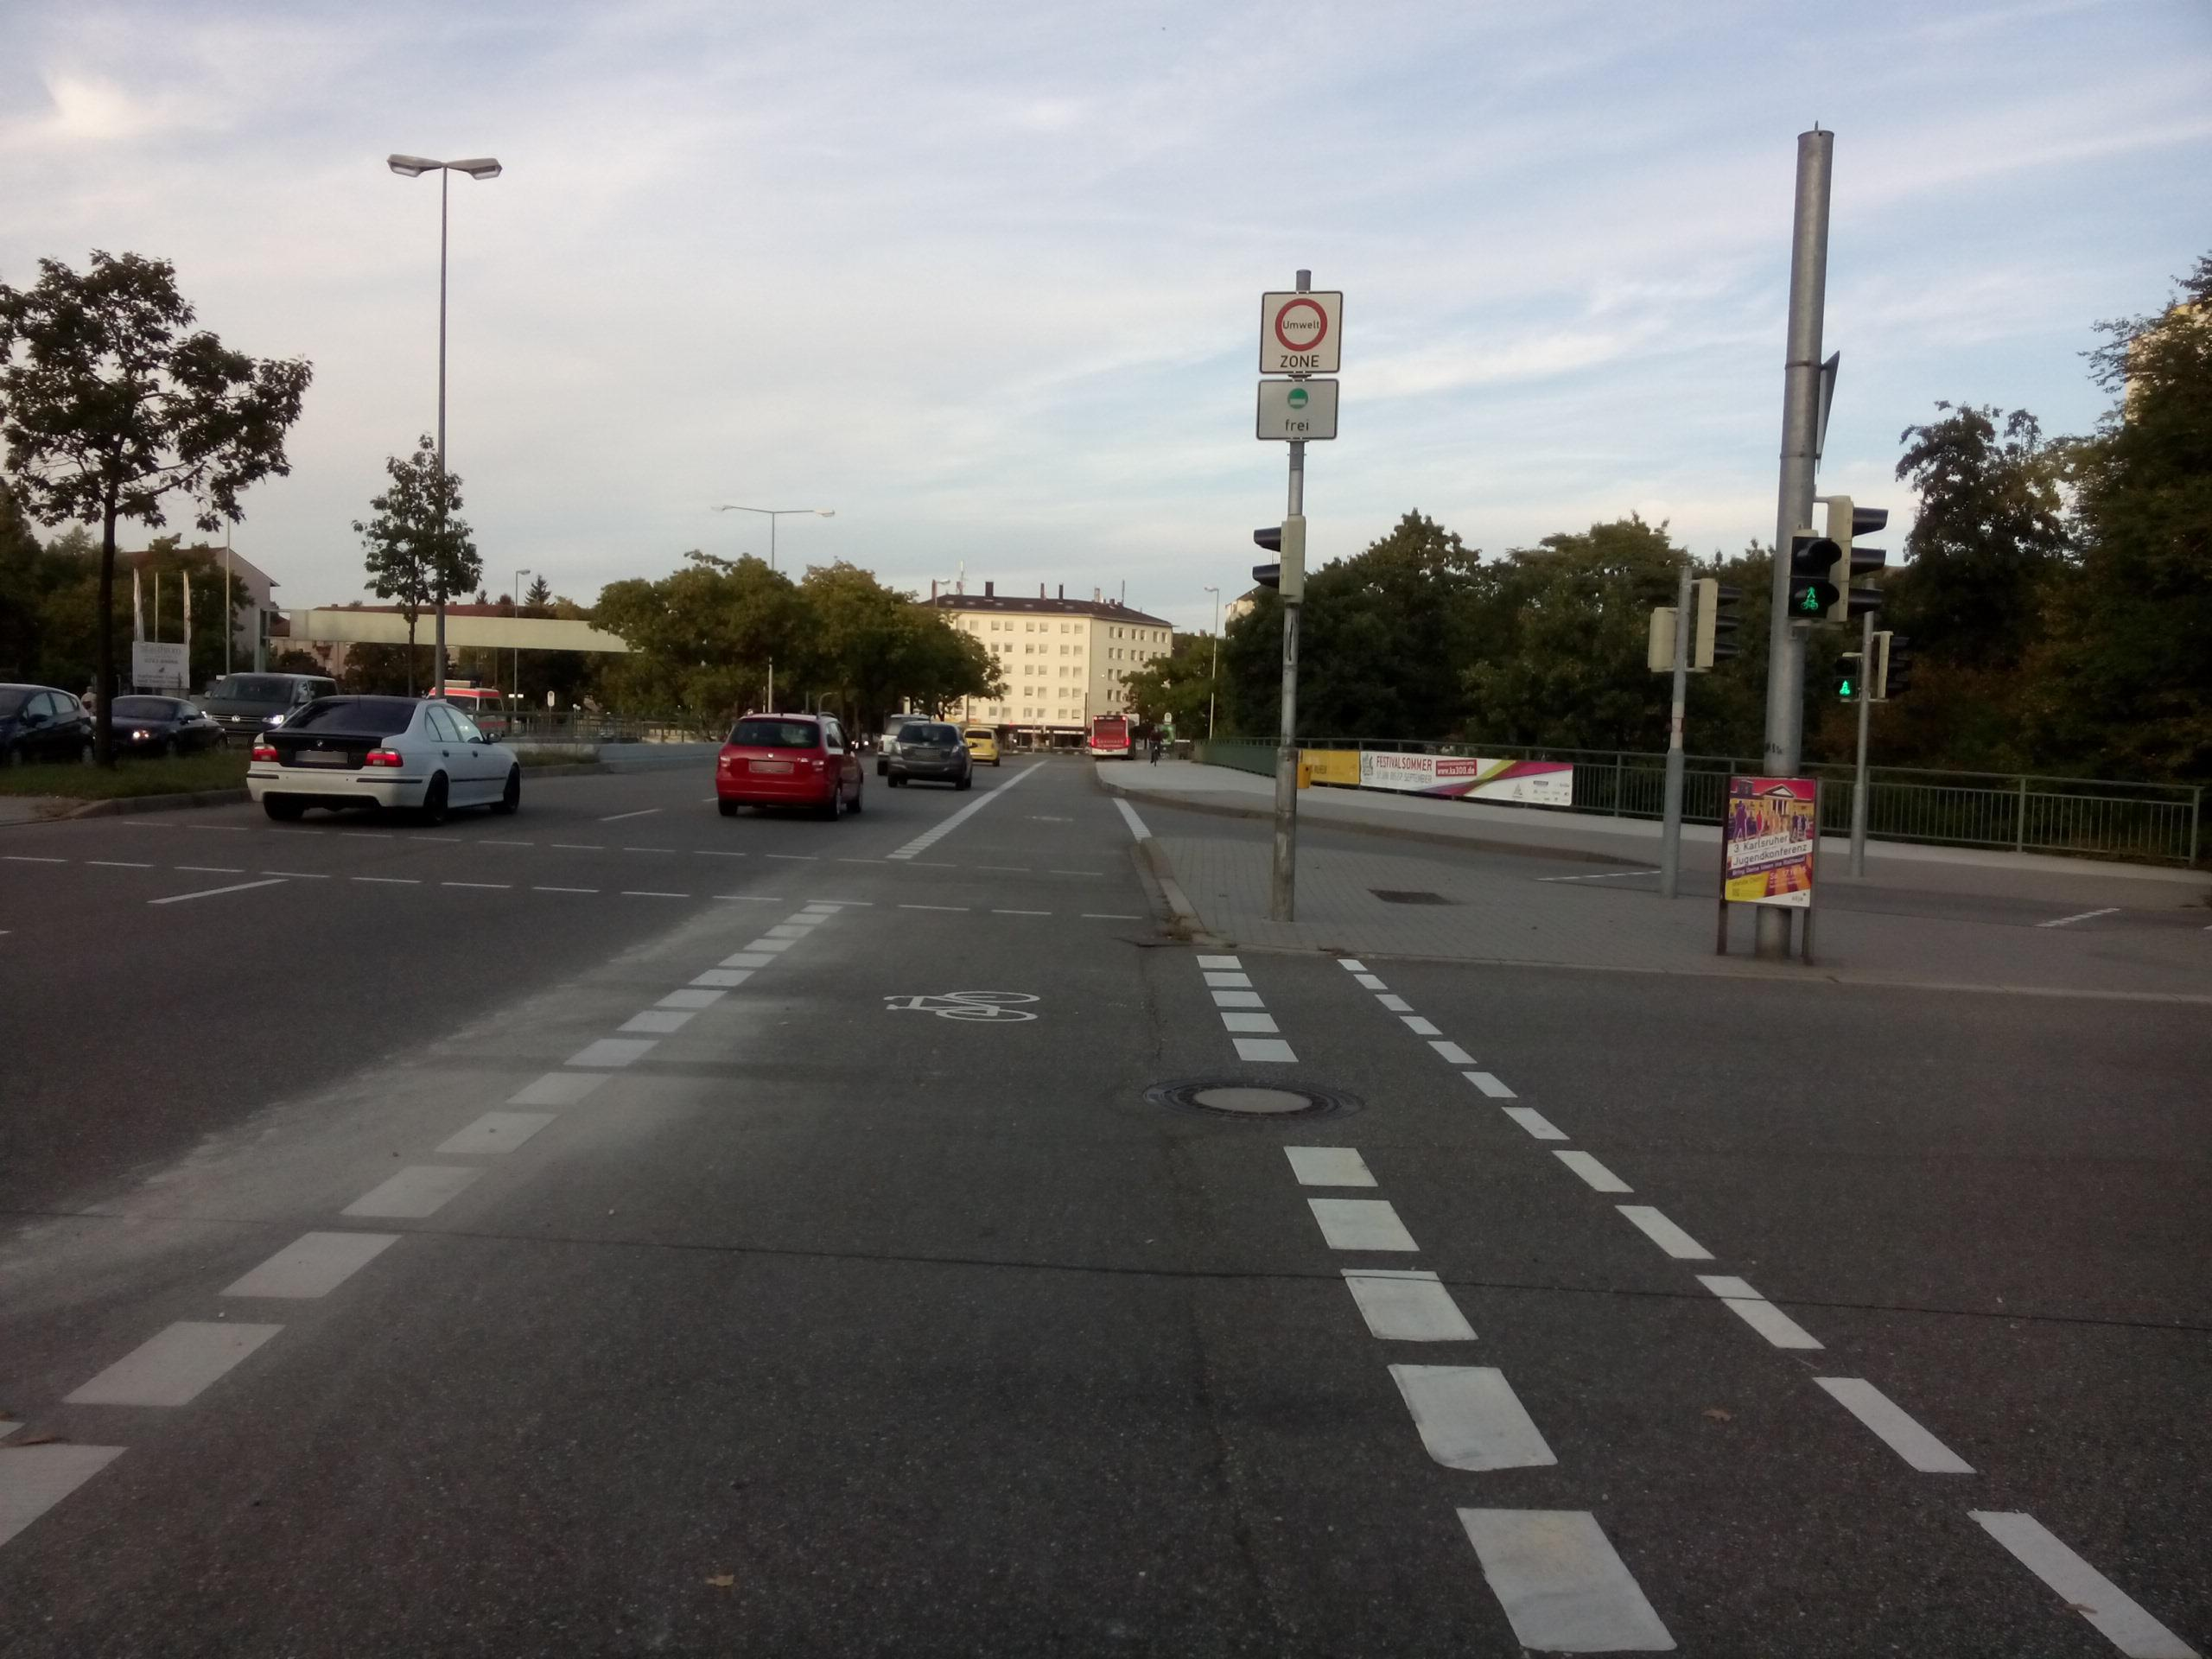vinyl banner: (1296, 737, 1594, 821)
